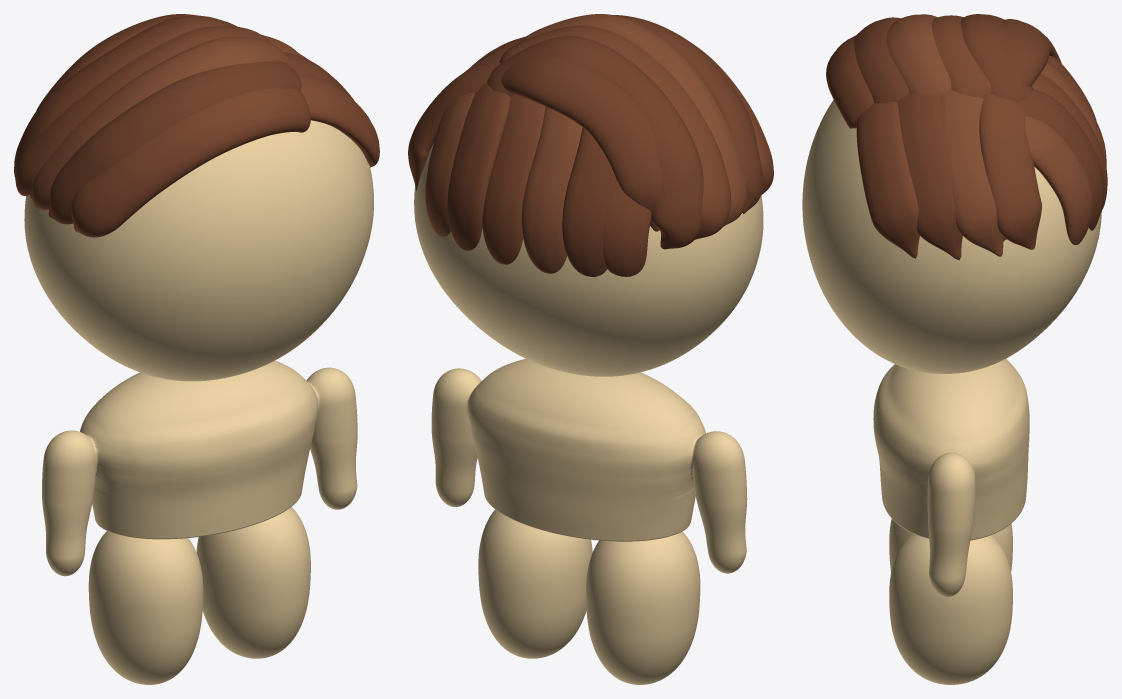
The model's file is Masculine-base.glb.
3 renders of one model, left to right at view 1: azimuth 30°, elevation 25°; view 2: azimuth 150°, elevation 25°; view 3: azimuth 270°, elevation 25°, orthographic.
Visible parts, largest first — view 1: Skin / soft oval head, Skin / rounded torso, Skin / leg blob -1, Skin / leg blob 1, Hair / Side part main 0, Hair / Side part main 1, Hair / Side part main 2, Hair / Side part main 3, Hair / Side part main 4, Hair / Side part short 0, Hair / Side part crown, Hair / Side part short 1; view 2: Skin / rounded torso, Skin / soft oval head, Skin / leg blob -1, Skin / leg blob 1, Hair / Side part crown, Hair / Side part main 4, Hair / Side part nape 2, Hair / Side part main 3, Hair / Side part nape 3, Hair / Side part nape 4, Hair / Side part main 2, Hair / Side part nape 1 (+5 smaller); view 3: Skin / soft oval head, Skin / rounded torso, Skin / leg blob 1, Hair / Side part short 3, Hair / Side part short 0, Hair / Side part short 1, Hair / Side part short 2, Hair / Side part nape 5, Hair / Side part main 2, Hair / Side part nape 4, Hair / Side part main 4, Hair / Side part main 1 (+6 smaller).
Boxes of the visible parts, x1=… form: Skin / soft oval head: x1=24, y1=120, x2=373, y2=381; Skin / rounded torso: x1=42, y1=360, x2=357, y2=576; Skin / leg blob -1: x1=88, y1=531, x2=203, y2=684; Skin / leg blob 1: x1=196, y1=507, x2=310, y2=658; Hair / Side part main 0: x1=71, y1=88, x2=310, y2=237; Hair / Side part main 1: x1=48, y1=61, x2=301, y2=224; Hair / Side part main 2: x1=31, y1=36, x2=288, y2=209; Hair / Side part main 3: x1=15, y1=26, x2=269, y2=195; Hair / Side part main 4: x1=14, y1=15, x2=236, y2=177; Hair / Side part short 0: x1=298, y1=75, x2=379, y2=167; Hair / Side part crown: x1=36, y1=14, x2=197, y2=110; Hair / Side part short 1: x1=283, y1=51, x2=354, y2=100; Skin / rounded torso: x1=431, y1=359, x2=747, y2=573; Skin / soft oval head: x1=414, y1=143, x2=763, y2=376; Skin / leg blob -1: x1=586, y1=531, x2=700, y2=684; Skin / leg blob 1: x1=478, y1=509, x2=592, y2=658; Hair / Side part crown: x1=501, y1=55, x2=662, y2=231; Hair / Side part main 4: x1=487, y1=36, x2=703, y2=249; Hair / Side part nape 2: x1=521, y1=106, x2=582, y2=273; Hair / Side part main 3: x1=499, y1=25, x2=730, y2=239; Hair / Side part nape 3: x1=482, y1=94, x2=545, y2=264; Hair / Side part nape 4: x1=447, y1=82, x2=510, y2=250; Hair / Side part main 2: x1=521, y1=14, x2=747, y2=226; Hair / Side part nape 1: x1=562, y1=127, x2=615, y2=276; Skin / soft oval head: x1=802, y1=100, x2=1101, y2=373; Skin / rounded torso: x1=873, y1=359, x2=1029, y2=597; Skin / leg blob 1: x1=889, y1=533, x2=1012, y2=684; Hair / Side part short 3: x1=979, y1=93, x2=1041, y2=249; Hair / Side part short 0: x1=856, y1=102, x2=919, y2=258; Hair / Side part short 1: x1=897, y1=93, x2=962, y2=260; Hair / Side part short 2: x1=940, y1=89, x2=1003, y2=256; Hair / Side part nape 5: x1=1025, y1=116, x2=1092, y2=244; Hair / Side part main 2: x1=886, y1=14, x2=951, y2=96; Hair / Side part nape 4: x1=1016, y1=89, x2=1104, y2=230; Hair / Side part main 4: x1=960, y1=14, x2=1032, y2=102; Hair / Side part main 1: x1=854, y1=17, x2=909, y2=103.
Bounding box in the file's own units: 0.9754 × 1.87 × 0.825.
